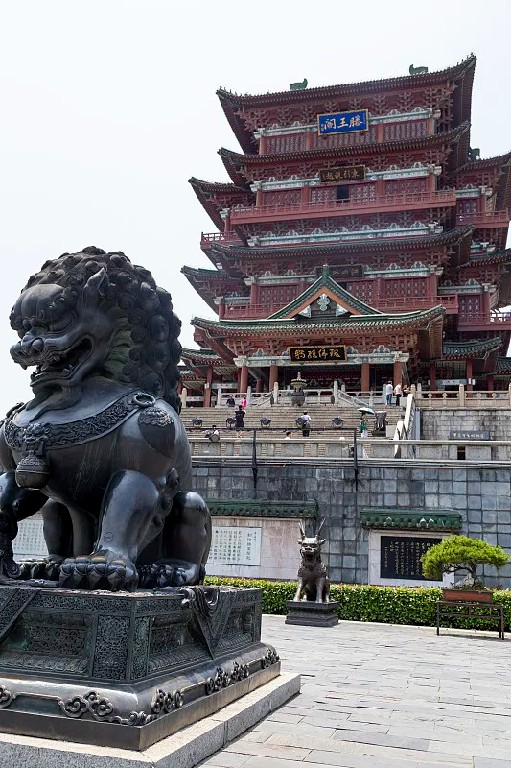Teng: (181, 56, 511, 402)
